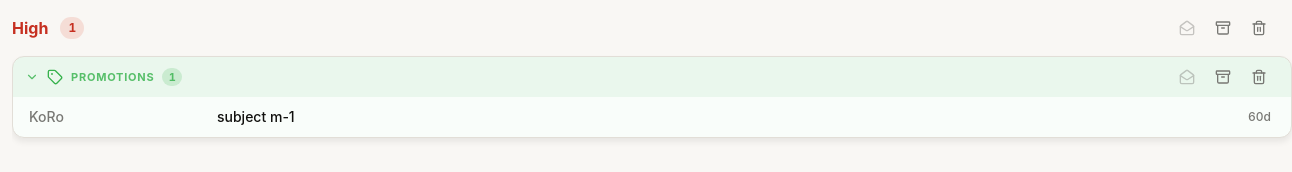
Test: collapsing a category › hides its rows and offers to expand it again
Click the button with aria-label "Collapse Promotions" at (113, 77), box [25,68,1161,86]
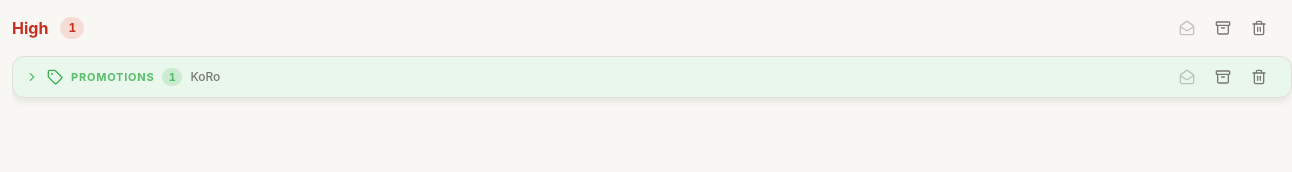
Check: the button with aria-label "Expand Promotions" is shown, box [25,68,1161,86]
